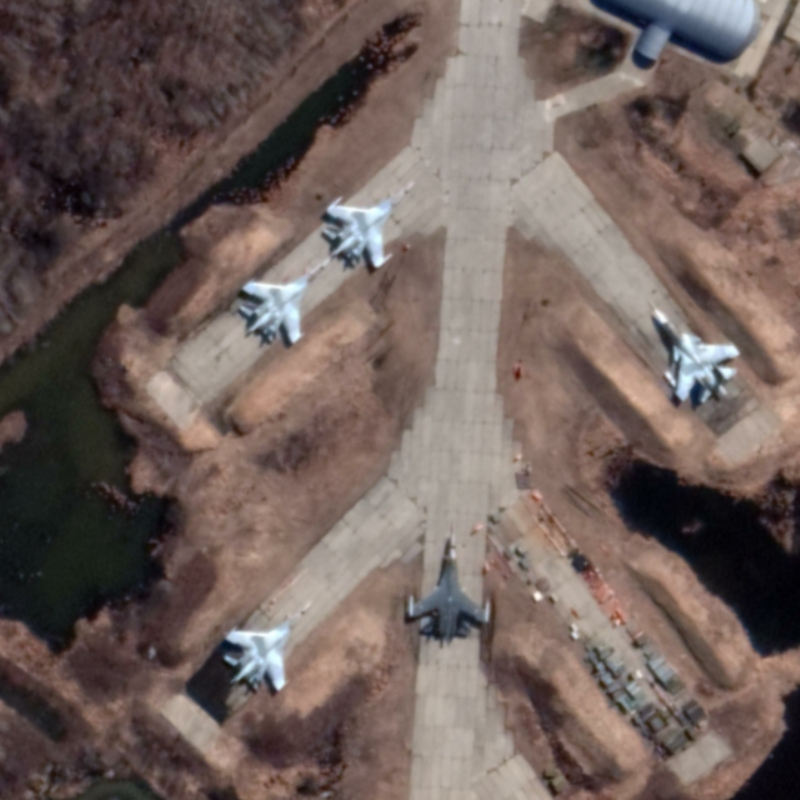A1: (403, 525, 492, 649), (318, 181, 418, 271), (220, 598, 312, 695), (235, 258, 332, 348)
A19: (648, 303, 743, 406)
